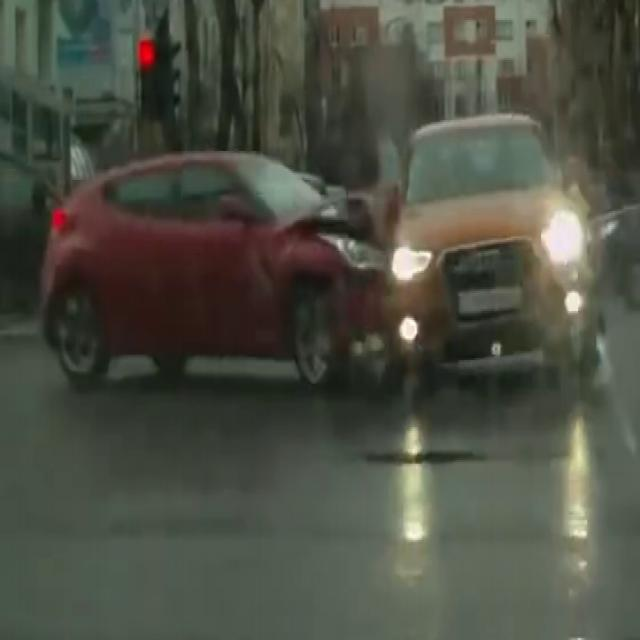accident: (176, 115, 585, 398)
